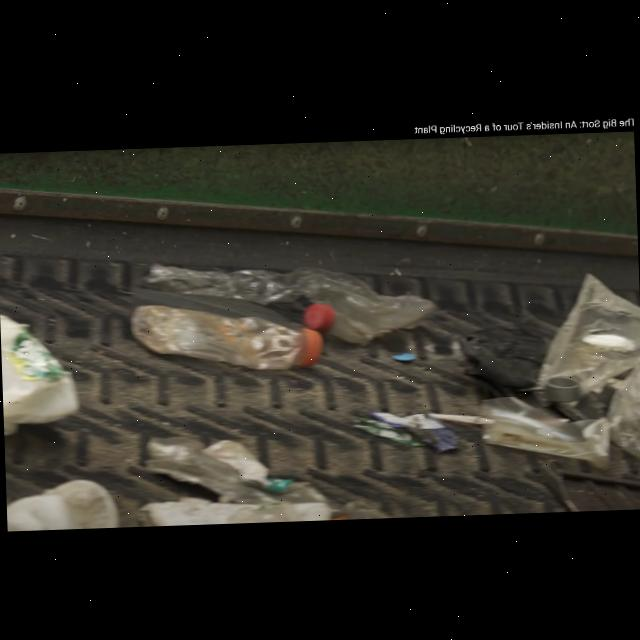trash: (126, 296, 324, 375), (302, 288, 436, 344)
